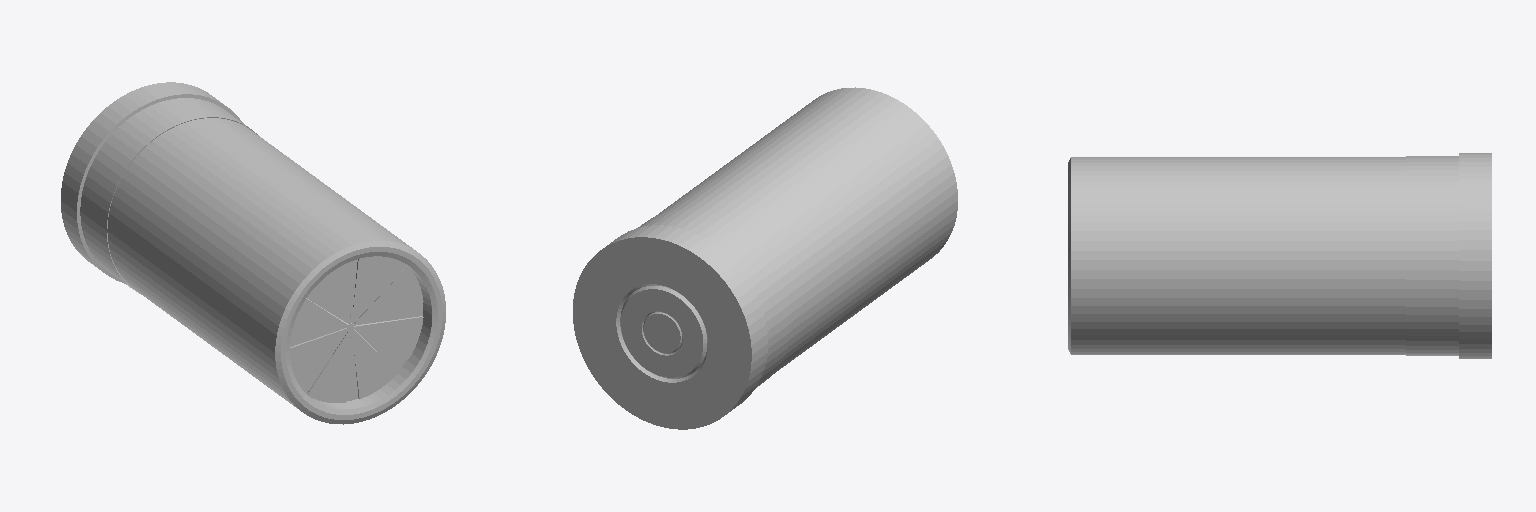
File: bullet_12k.obj
3 renders of one model, left to right at view 1: azimuth 30°, elevation 25°; view 2: azimuth 150°, elevation 25°; view 3: azimuth 270°, elevation 25°, orthographic.
Parts seen in each view (by area): view 1: Cilindre; view 2: Cilindre; view 3: Cilindre.
Boxes of the visible parts, x1,y1,x2,y2 form: Cilindre: [61, 82, 445, 424]; Cilindre: [573, 87, 957, 429]; Cilindre: [1068, 153, 1491, 358].
Size of the model in its own units: 2.09 by 2.09 by 4.29.